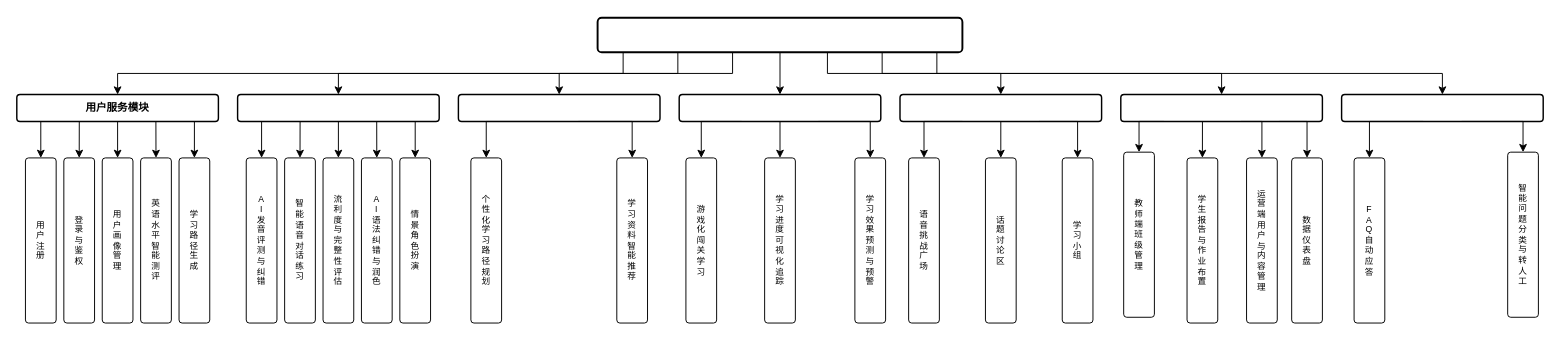
This 1561x340 diagram has some shape labels left out. The centre of each missing label's shape, as x and y in pixels:
Lingolab-ai 英语口语训练系统: (779,34)
个性化推荐服务模块: (558,107)
后台管理服务模块: (1221,107)
学习服务模块: (337,107)
智能客服服务模块: (1441,107)
激励服务模块: (779,107)
社区服务模块: (1000,107)
